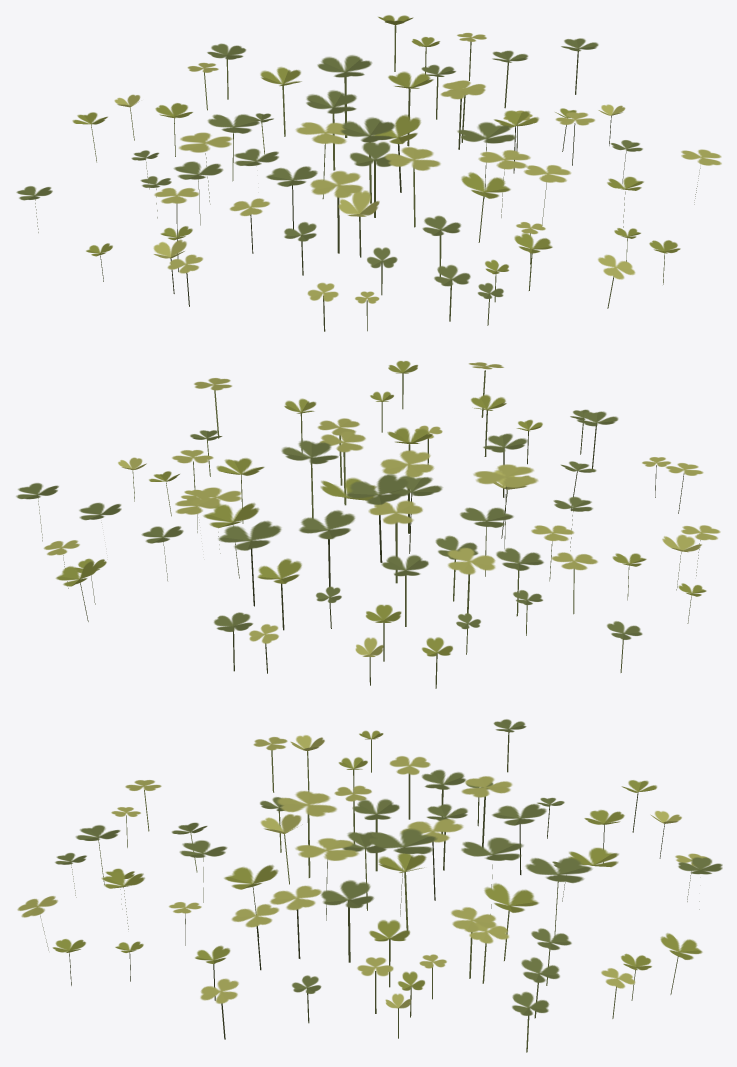
The model's file is Clover_1.glb.
3 views of the same model, one above another, from view 1: azimuth 30°, elevation 25°; view 2: azimuth 150°, elevation 25°; view 3: azimuth 270°, elevation 25° (orthographic). The views are drawn at different scales.
Parts seen in each view (by area): view 1: Clover_1; view 2: Clover_1; view 3: Clover_1.
Part boxes in pixels (x1=…): Clover_1: x1=16, y1=15, x2=721, y2=331; Clover_1: x1=16, y1=361, x2=720, y2=688; Clover_1: x1=17, y1=719, x2=722, y2=1052.
Size of the model in its own units: 2.23 by 0.2653 by 2.19.
Materials: 1 (1 with a texture image).
